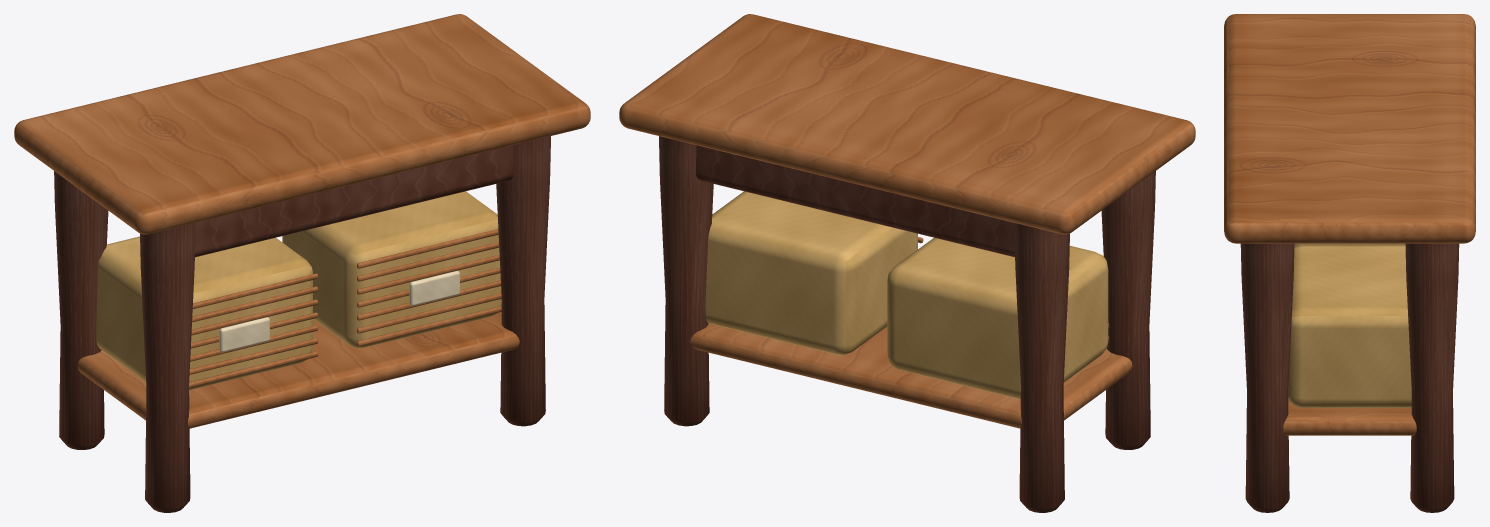
Rendered from V5_TaskTable.fbx.
3 views of the same model, side by side, from view 1: azimuth 30°, elevation 25°; view 2: azimuth 150°, elevation 25°; view 3: azimuth 270°, elevation 25° (orthographic). The views are drawn at different scales.
Parts seen in each view (by area): view 1: V5_TaskTable; view 2: V5_TaskTable; view 3: V5_TaskTable.
Boxes of the visible parts, x1,y1,x2,y2 form: V5_TaskTable: [14, 14, 590, 512]; V5_TaskTable: [619, 14, 1195, 512]; V5_TaskTable: [1224, 14, 1475, 512].
Size of the model in its own units: 1.1 by 0.74 by 0.55.
1 material, 1 textured.
